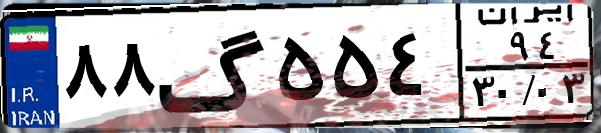0: (495, 70, 520, 125), (535, 70, 560, 125)
3: (560, 70, 590, 125), (470, 70, 495, 125)
4: (385, 28, 445, 110), (537, 27, 568, 80)
5: (270, 28, 330, 110), (330, 28, 385, 110)
8: (57, 26, 110, 100), (110, 28, 156, 98)
9: (508, 27, 537, 80)
گ: (156, 12, 270, 120)
